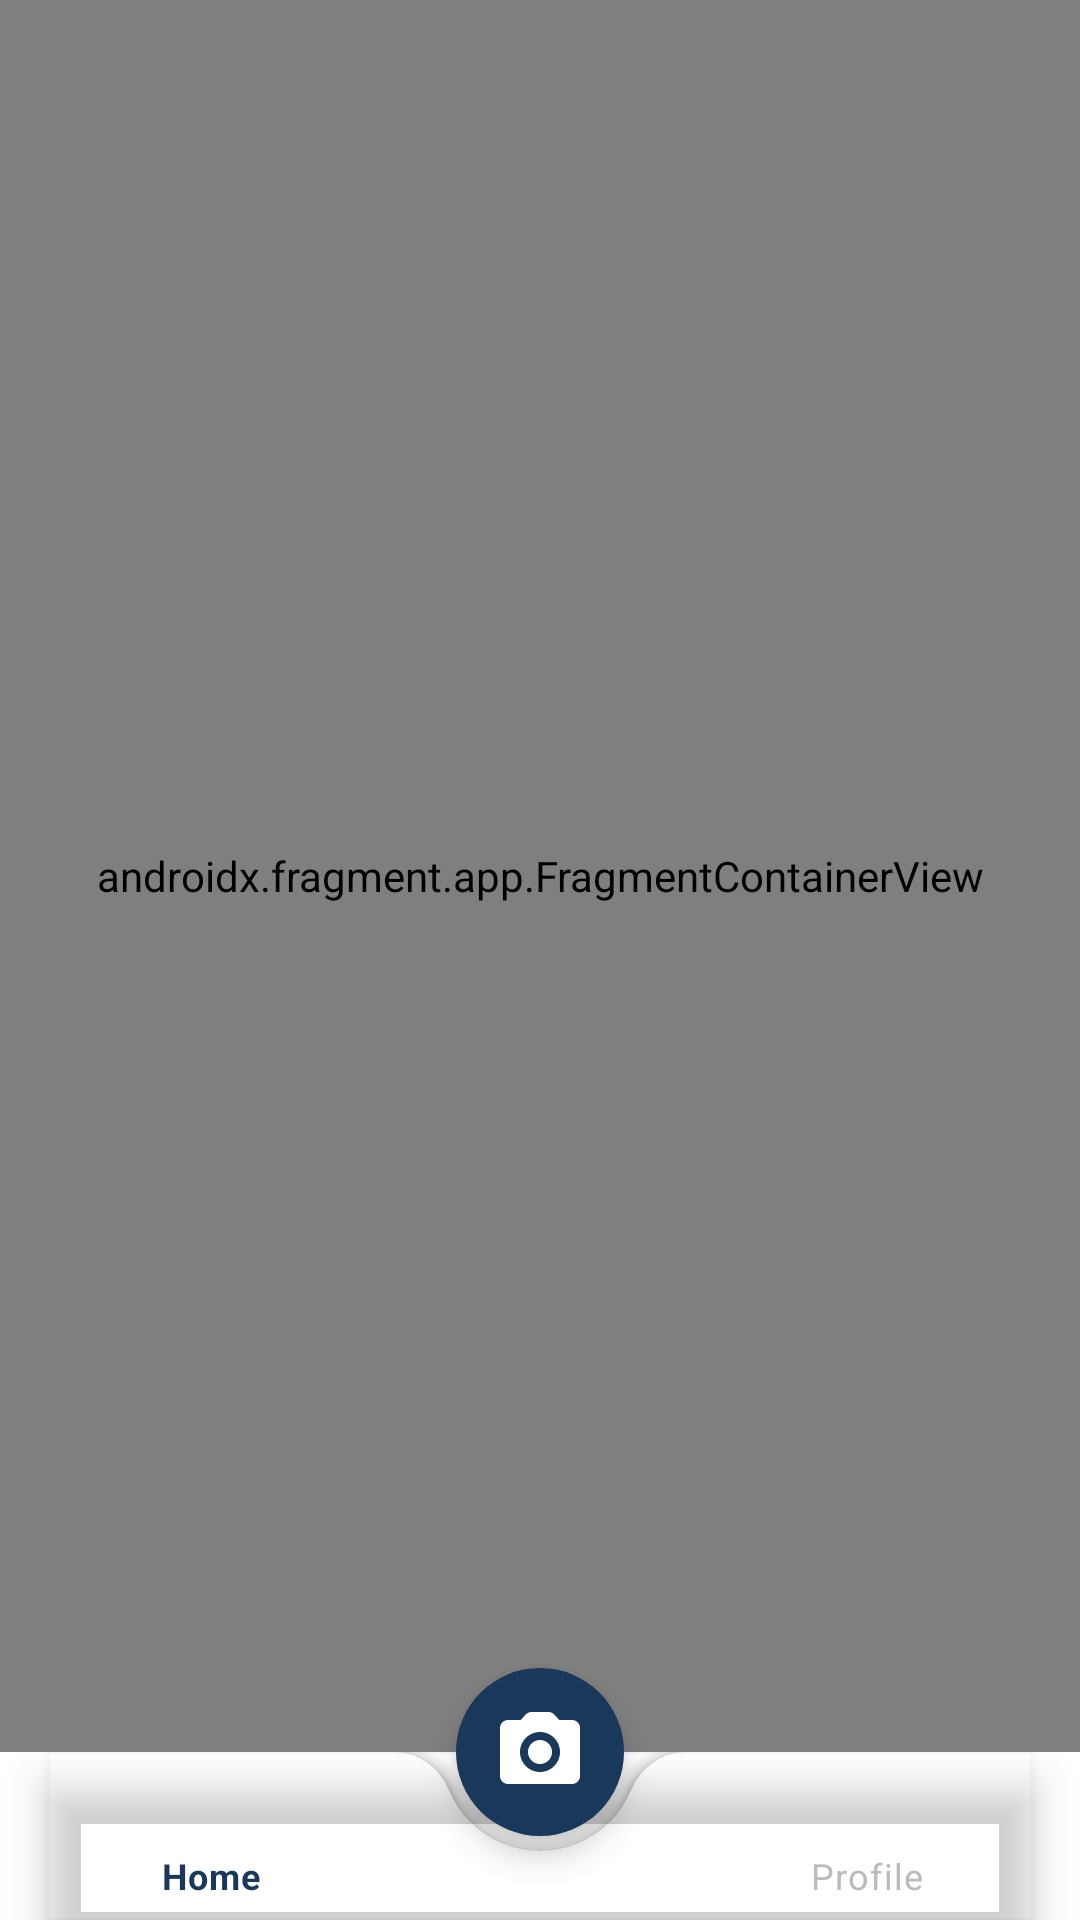

Icon click points for this 1080x1920 phone screenshot, format (x=x, y=y):
camera: (x=540, y=1752)
